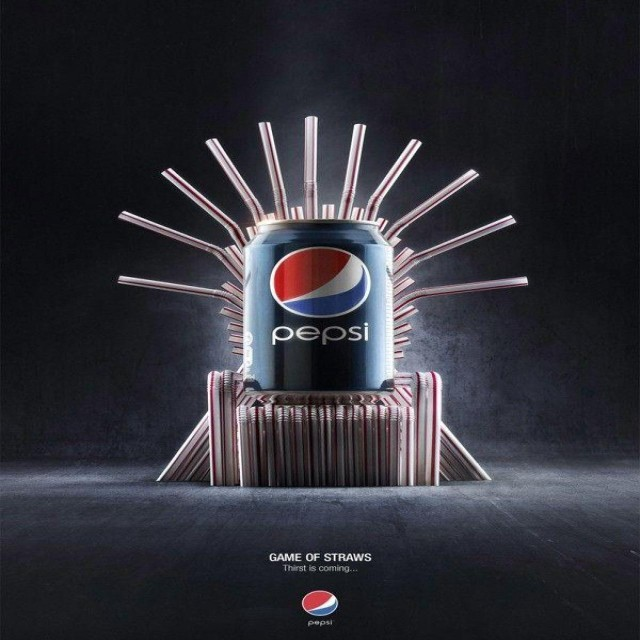pepsi: (267, 246, 372, 321), (303, 589, 339, 618)
